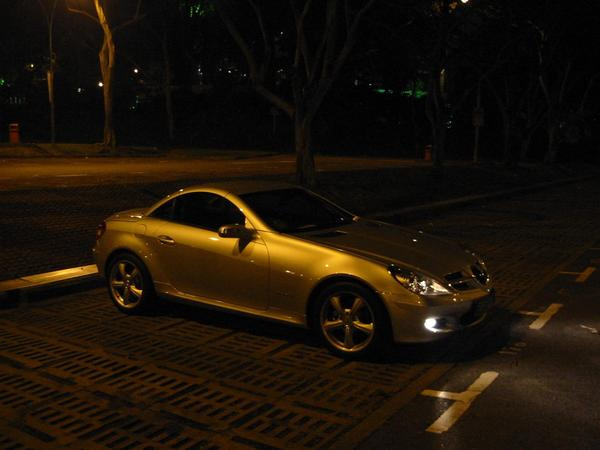car: (86, 169, 498, 365)
